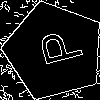P: (29, 26, 84, 70)
